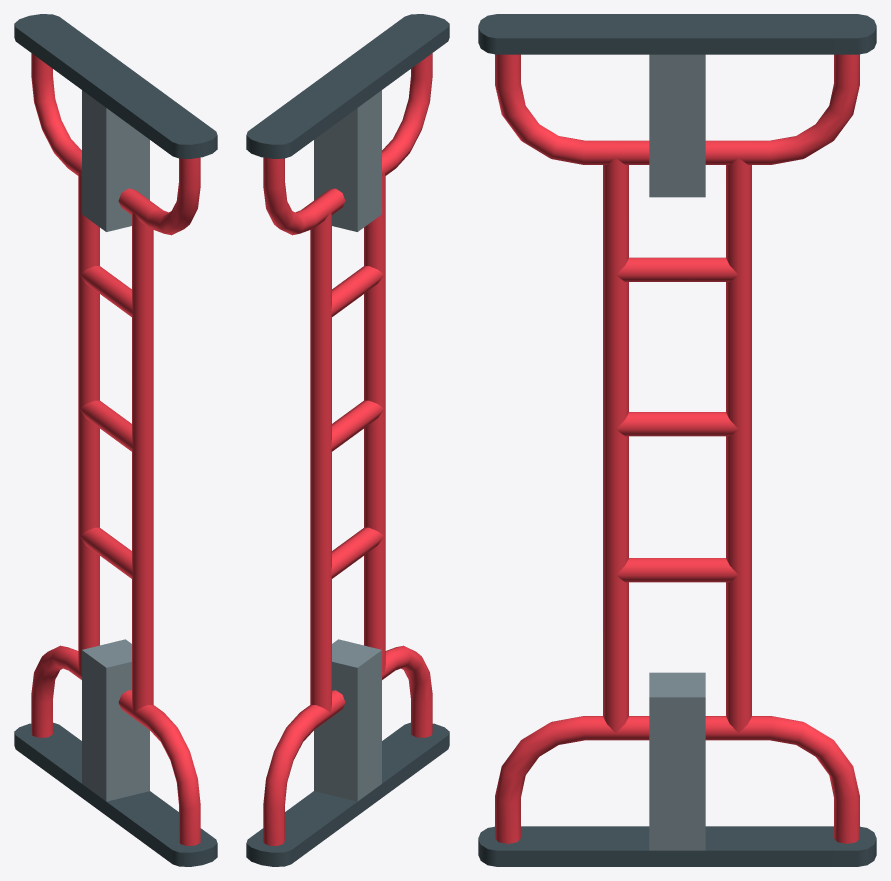
File: Column_009.glb
3 views of the same model, side by side, from view 1: azimuth 30°, elevation 25°; view 2: azimuth 150°, elevation 25°; view 3: azimuth 270°, elevation 25° (orthographic). The views are drawn at different scales.
Visible parts, largest first — view 1: Column_009; view 2: Column_009; view 3: Column_009.
Part boxes in pixels (left/top/right/bottom): Column_009: left=14, top=14, right=217, bottom=866; Column_009: left=246, top=14, right=449, bottom=866; Column_009: left=478, top=14, right=876, bottom=866.
Size of the model in its own units: 0.2406 by 3.8 by 1.66.
1 material, 1 textured.
